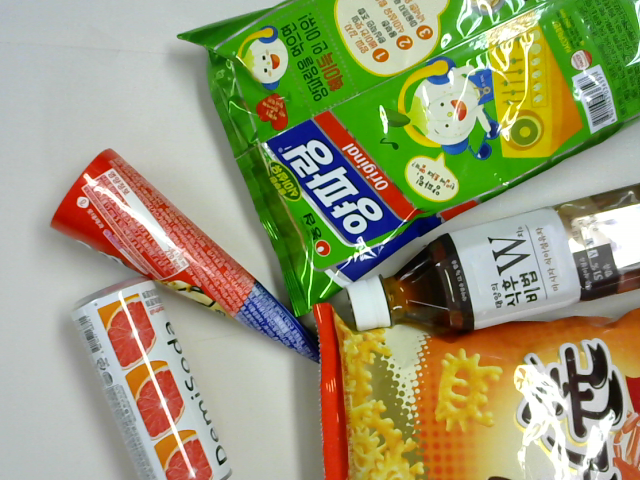Crabrang: (313, 300, 633, 480)
Demisoda_Grapefruit_Can_250ml: (68, 278, 241, 480)
Oninon_Ring: (175, 1, 639, 319)
Post-meal_recipe_W_tea_500ml: (348, 184, 640, 331)
World_Cone_Banila: (50, 147, 333, 365)
